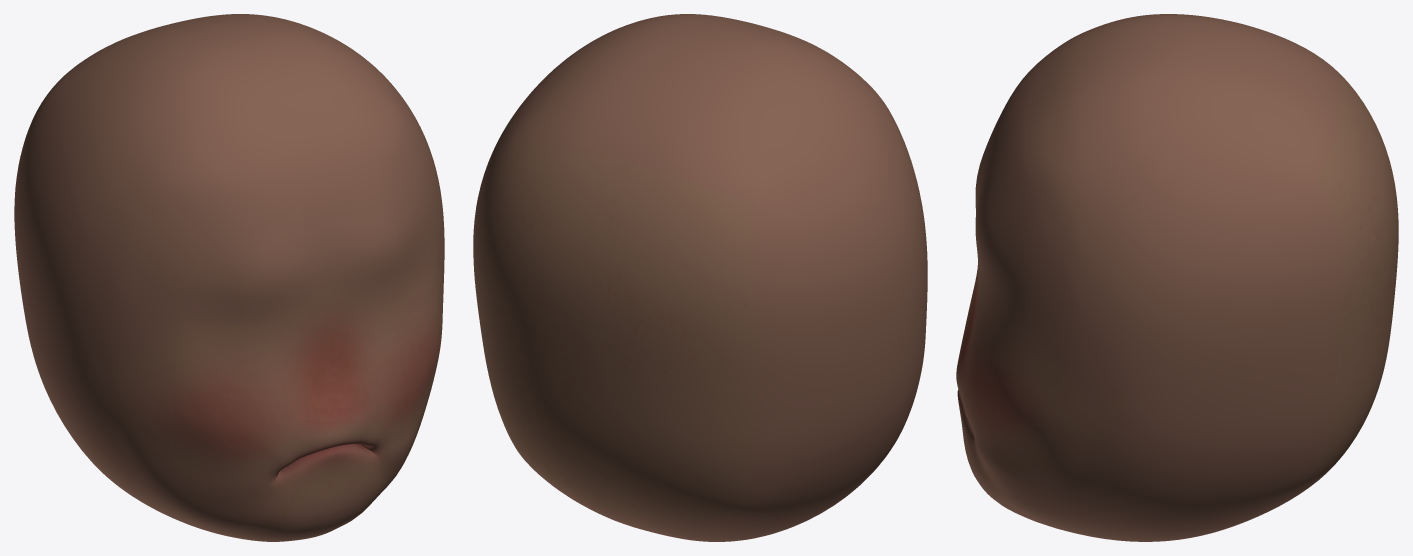
The model's file is head6.glb.
The picture shows the model from 3 angles, left to right: view 1: azimuth 30°, elevation 25°; view 2: azimuth 150°, elevation 25°; view 3: azimuth 270°, elevation 25°; orthographic projection. The views are drawn at different scales.
Parts seen in each view (by area): view 1: head.006; view 2: head.006; view 3: head.006.
Boxes of the visible parts, <box> form: head.006: <box>14,14,444,541</box>; head.006: <box>473,14,927,541</box>; head.006: <box>956,14,1398,541</box>.
Size of the model in its own units: 1.35 by 1.62 by 1.35.
1 material, 1 textured.
